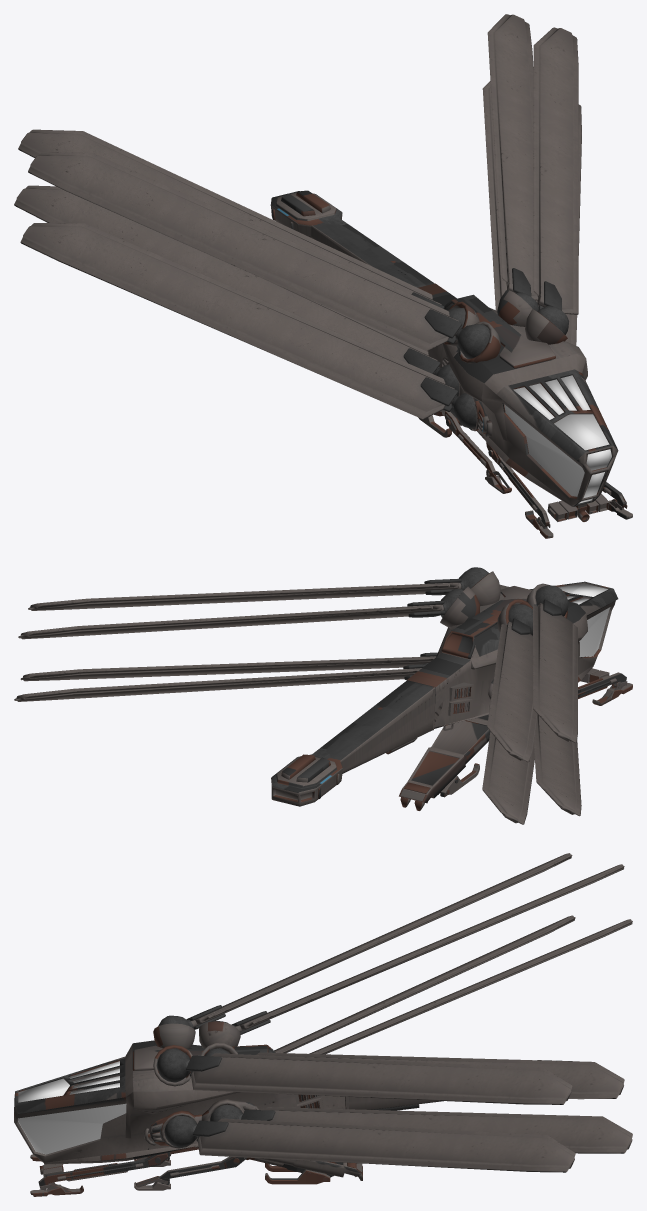
File: Not-Copyright-From-Dune.fbx
3 views of the same model, one above another, from view 1: azimuth 30°, elevation 25°; view 2: azimuth 150°, elevation 25°; view 3: azimuth 270°, elevation 25° (orthographic). The views are drawn at different scales.
Visible parts, largest first — view 1: Orni, Orni1; view 2: Orni, Orni1; view 3: Orni, Orni1.
Part boxes in pixels (bbox=[...]): Orni: bbox=[14, 14, 611, 503]; Orni1: bbox=[270, 190, 632, 538]; Orni: bbox=[14, 567, 610, 824]; Orni1: bbox=[271, 571, 632, 810]; Orni: bbox=[18, 853, 632, 1172]; Orni1: bbox=[14, 1021, 572, 1196].
Size of the model in its own units: 1760 by 682 by 1825.
